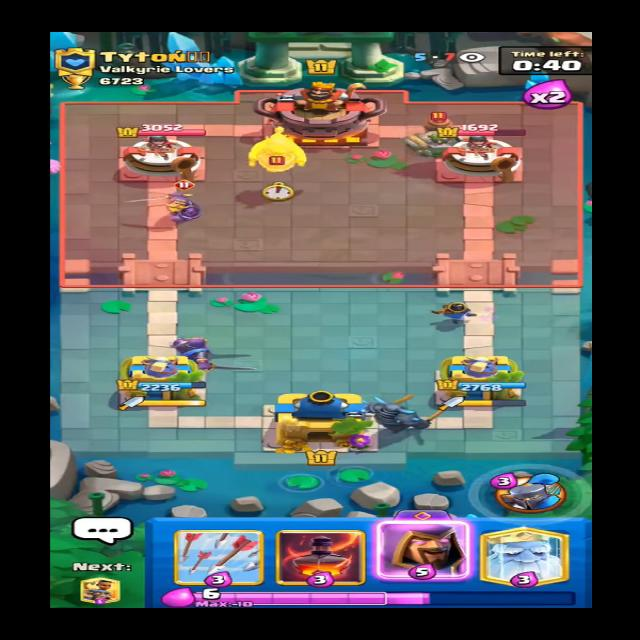EvoKnight: (145, 179, 216, 222)
Goblindemolisher: (238, 125, 321, 183)
Goblinmachine: (390, 112, 481, 160)
